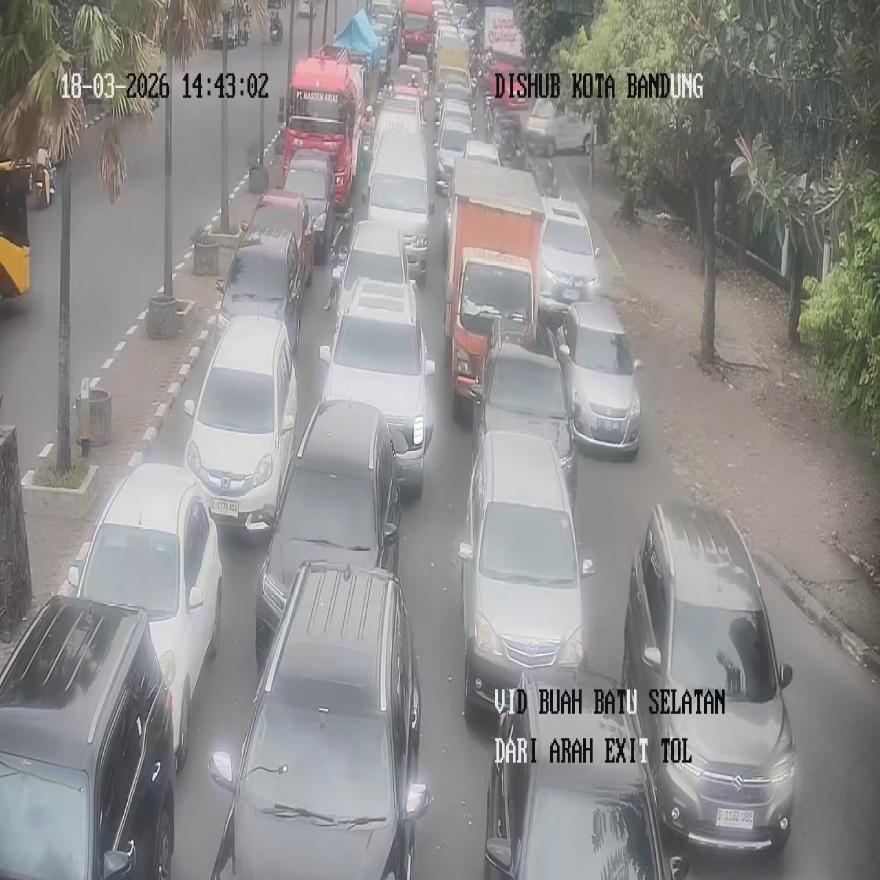Motor: (207, 558, 432, 878), (620, 501, 797, 853), (0, 595, 175, 877), (68, 462, 222, 769), (484, 669, 690, 878), (458, 426, 594, 718), (255, 399, 402, 668), (319, 276, 435, 496), (183, 314, 297, 532), (471, 317, 575, 501), (555, 298, 642, 454), (537, 197, 599, 325)
Truk: (324, 242, 346, 310), (270, 10, 282, 44)
